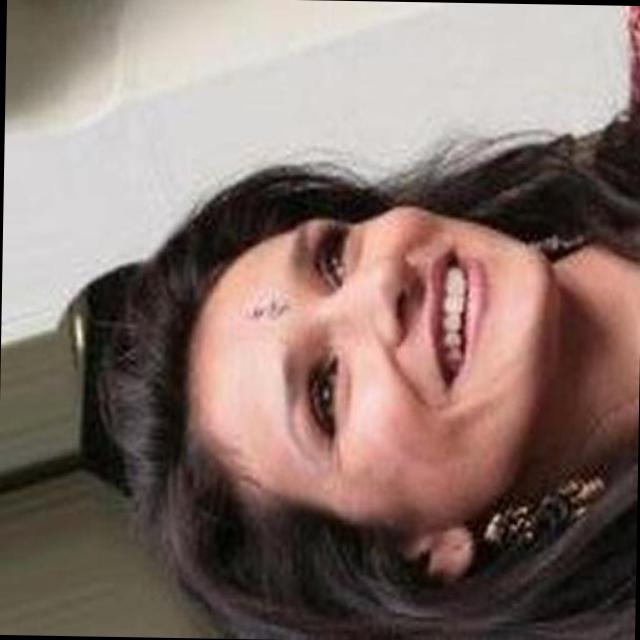bareface: (95, 178, 557, 639)
